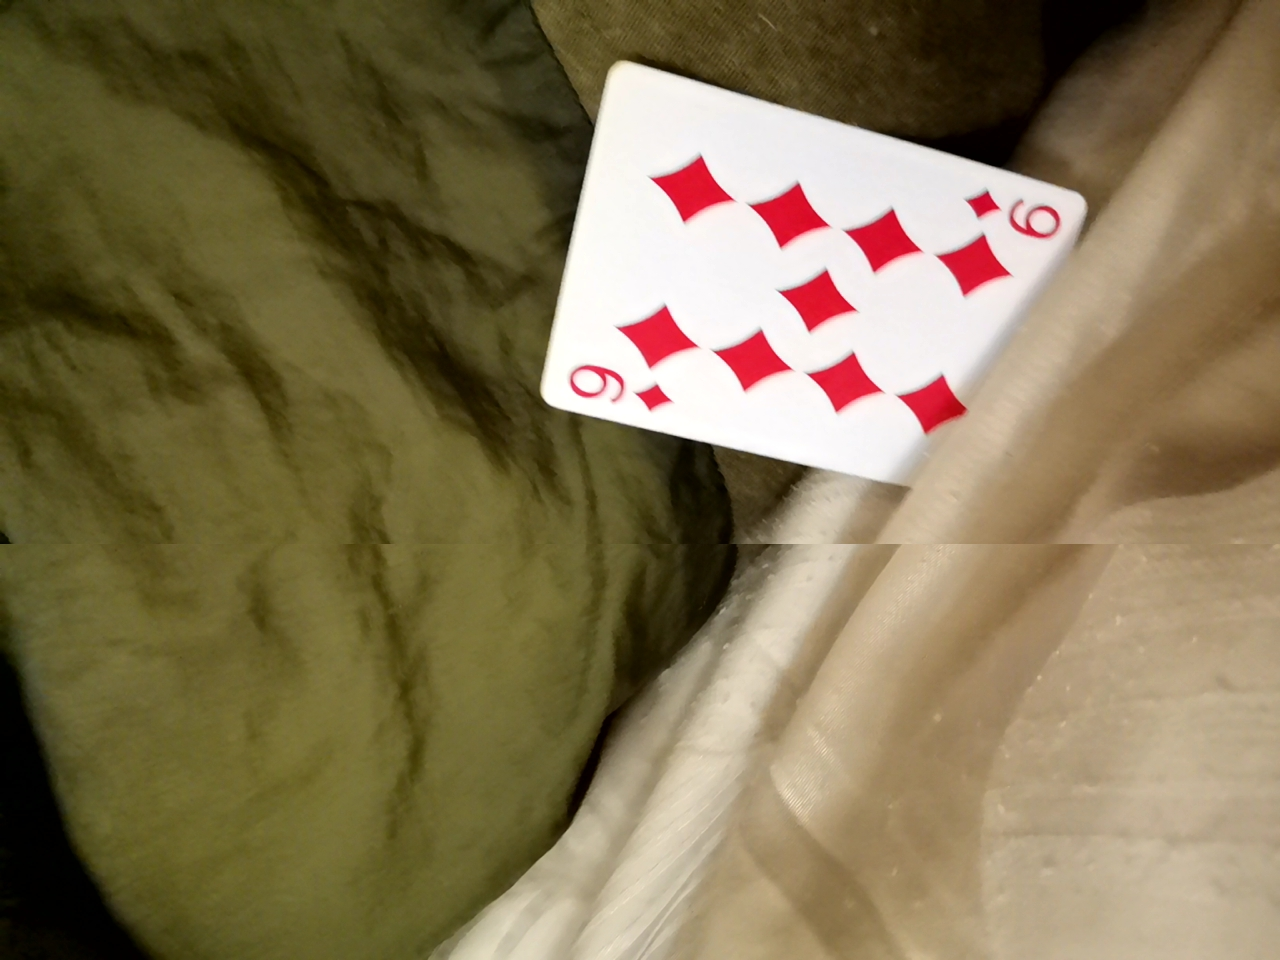fk 9: (523, 65, 1084, 490)
